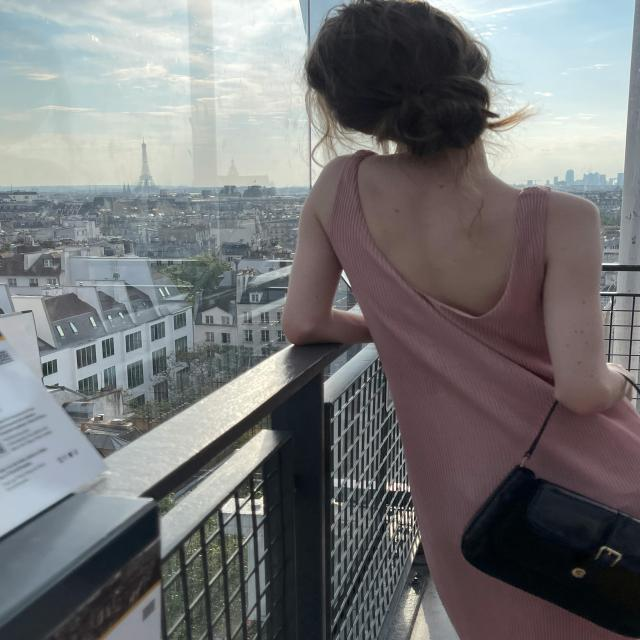stand: (310, 8, 617, 640)
